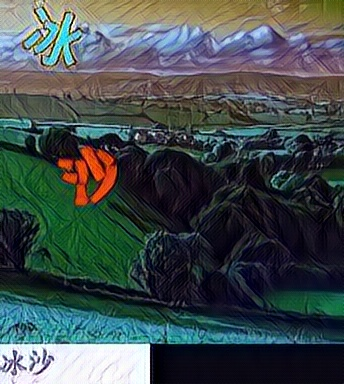B1F9: (23, 4, 86, 71)
C9B3: (56, 142, 119, 209)
